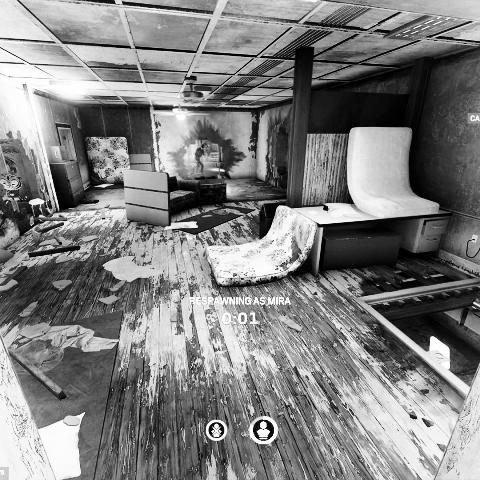Character: (194, 144, 207, 177)
Head: (201, 144, 205, 149)
